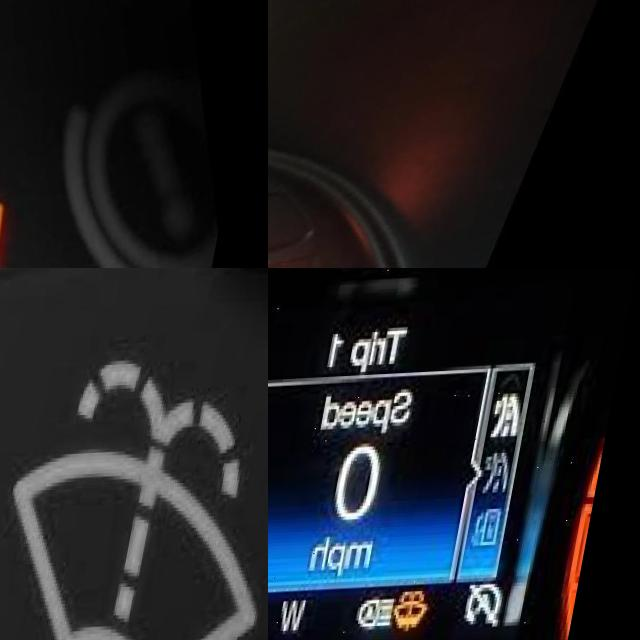Washer Fluid: (0, 355, 268, 640), (406, 592, 450, 639)
